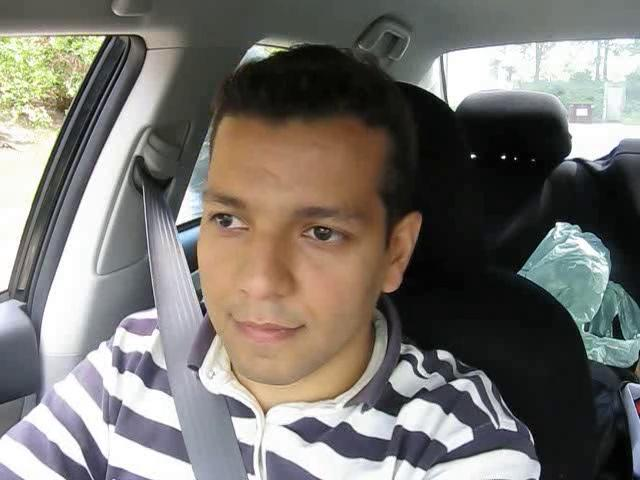no_yawn: (215, 306, 322, 352)
open_eyeL: (199, 200, 257, 243)
open_eyeR: (289, 213, 359, 254)
